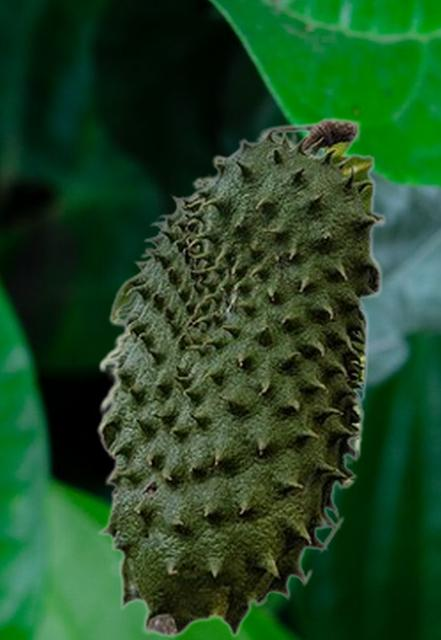guyabano: (95, 116, 385, 638)
